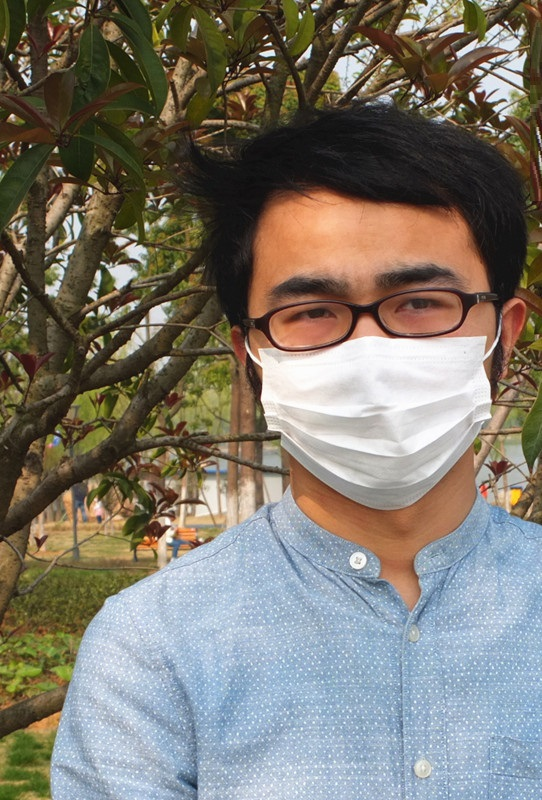face_mask: (250, 198, 483, 508)
